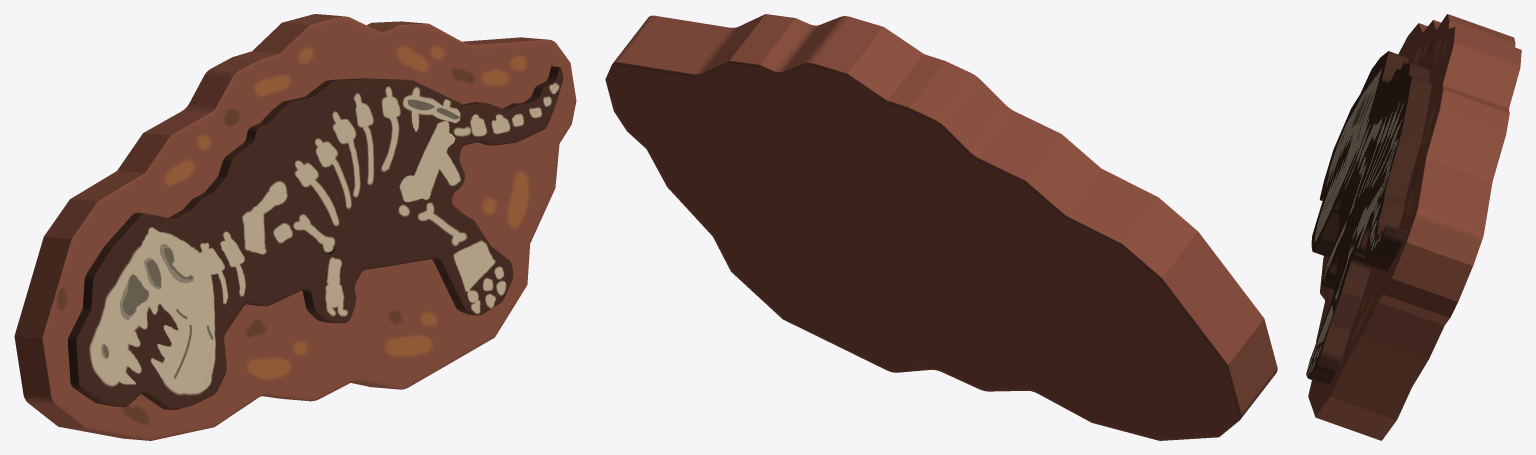
Rendered from Objeto_Prehistorico.obj.
The picture shows the model from 3 angles, left to right: view 1: azimuth 30°, elevation 25°; view 2: azimuth 150°, elevation 25°; view 3: azimuth 270°, elevation 25°; orthographic projection. The views are drawn at different scales.
Parts seen in each view (by area): view 1: Objeto_Prehistorico, Fosil(Objeto_Prehistorico); view 2: Objeto_Prehistorico; view 3: Objeto_Prehistorico, Fosil(Objeto_Prehistorico).
Part boxes in pixels (<box>): Objeto_Prehistorico: <box>14,14,576,440</box>; Fosil(Objeto_Prehistorico): <box>68,66,563,410</box>; Objeto_Prehistorico: <box>605,14,1277,440</box>; Objeto_Prehistorico: <box>1308,14,1521,440</box>; Fosil(Objeto_Prehistorico): <box>1306,51,1431,385</box>.
Size of the model in its own units: 2.19 by 1.32 by 0.6785.
2 materials, 2 textured.
